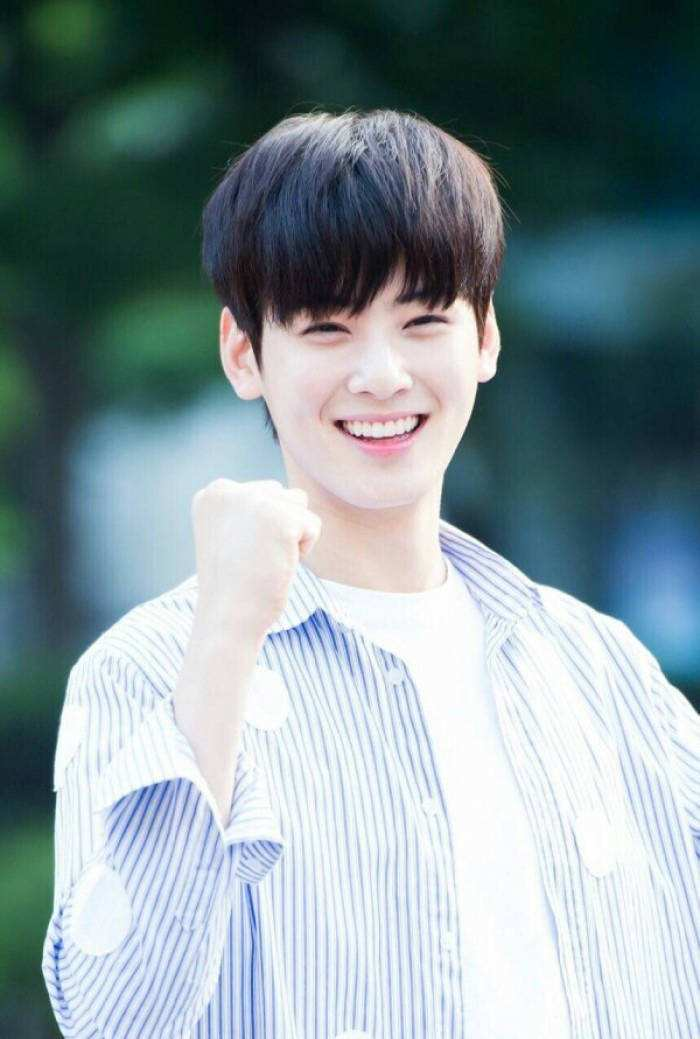person: (118, 122, 685, 1039)
